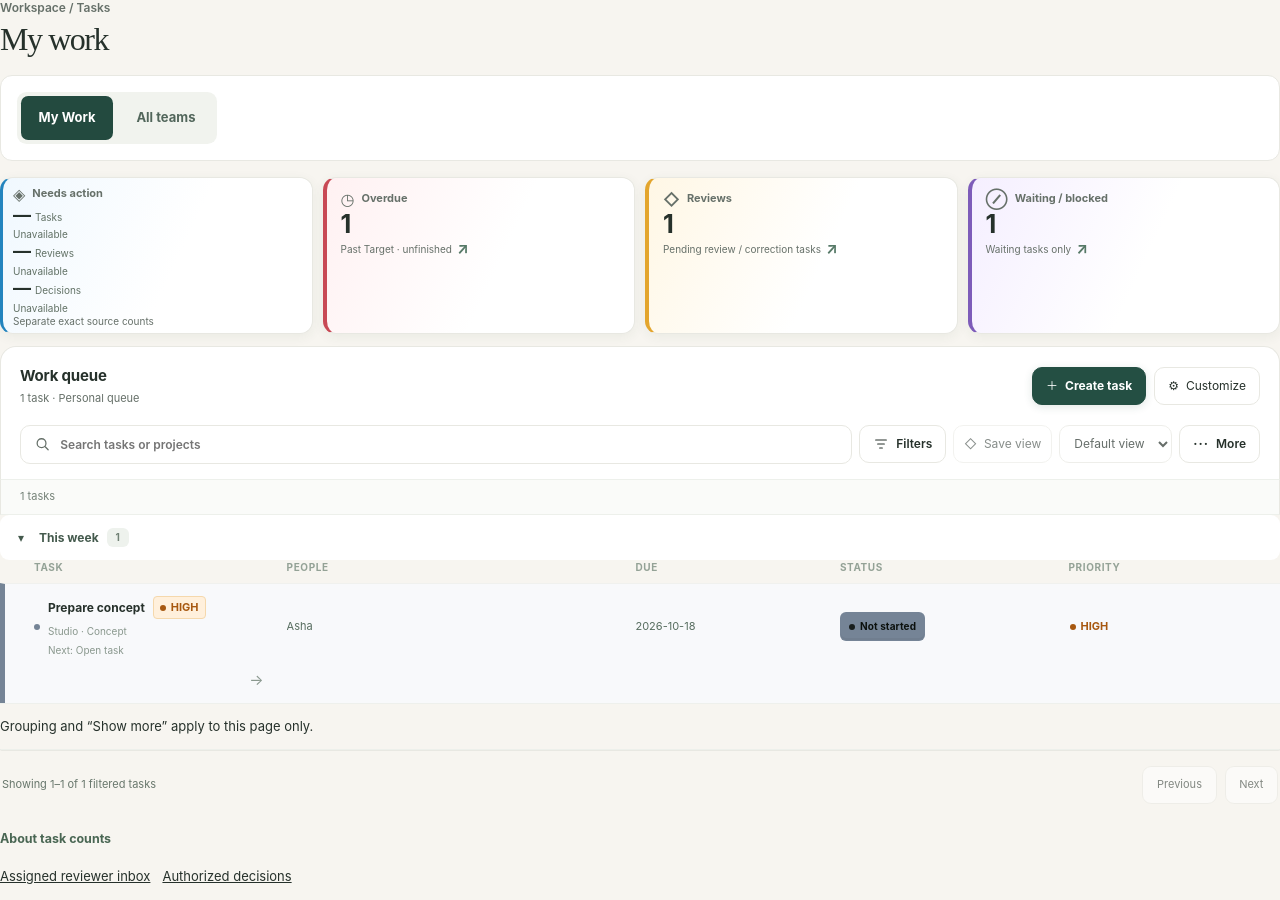
Test: TaskWorkspace My Work task drawer › keeps a real reassignment capacity warning and its decisions inside the open task drawer
Click the button named "Open task: Prepare concept".
click(642, 644)  # box x1=5 y1=584 x2=1279 y2=703
(page scrolled)
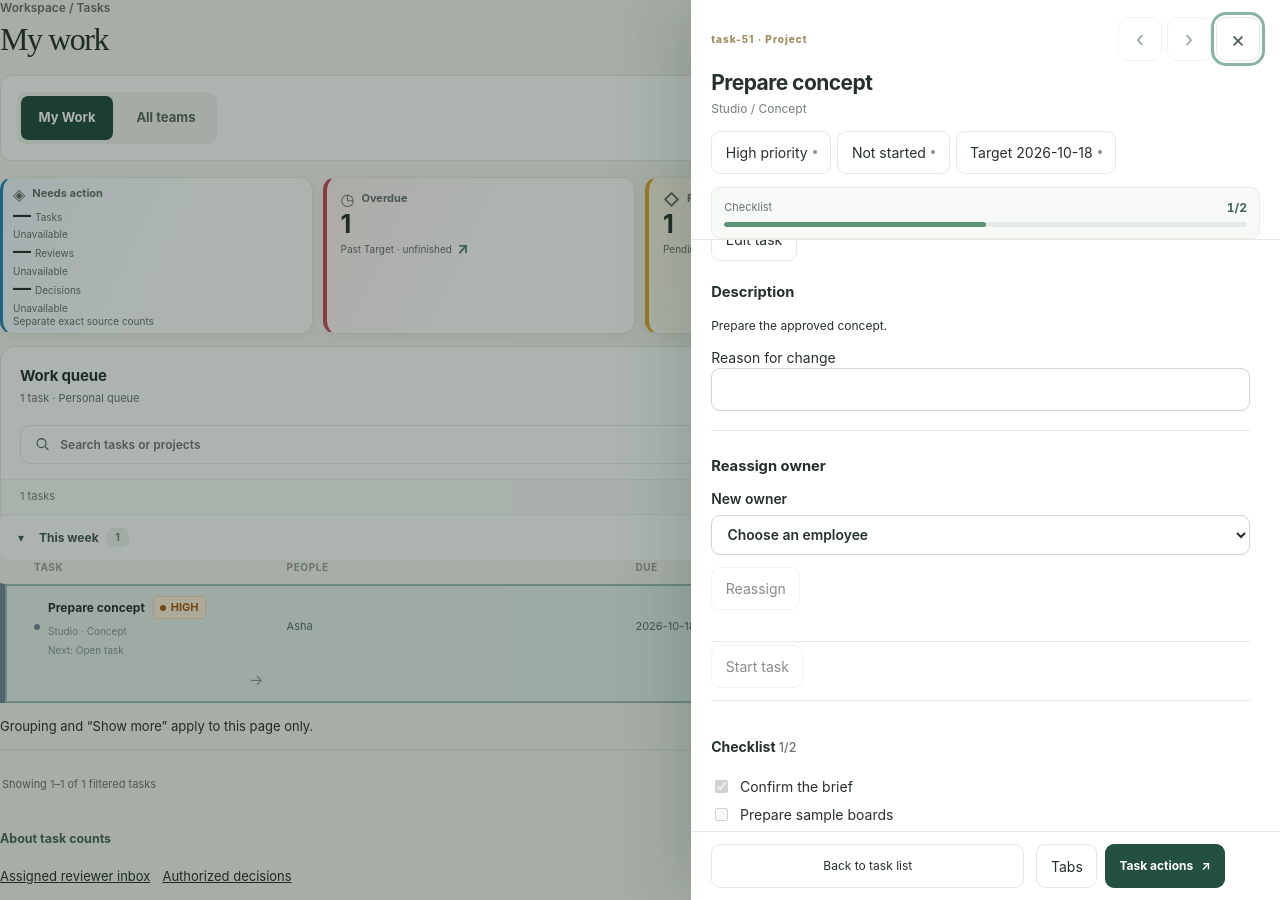
expect the heading "Prepare concept" is shown: met, box x1=711 y1=70 x2=872 y2=95
Select "Dev" in the dropdown labelled "New owner" at (981, 535), box x1=711 y1=515 x2=1250 y2=555
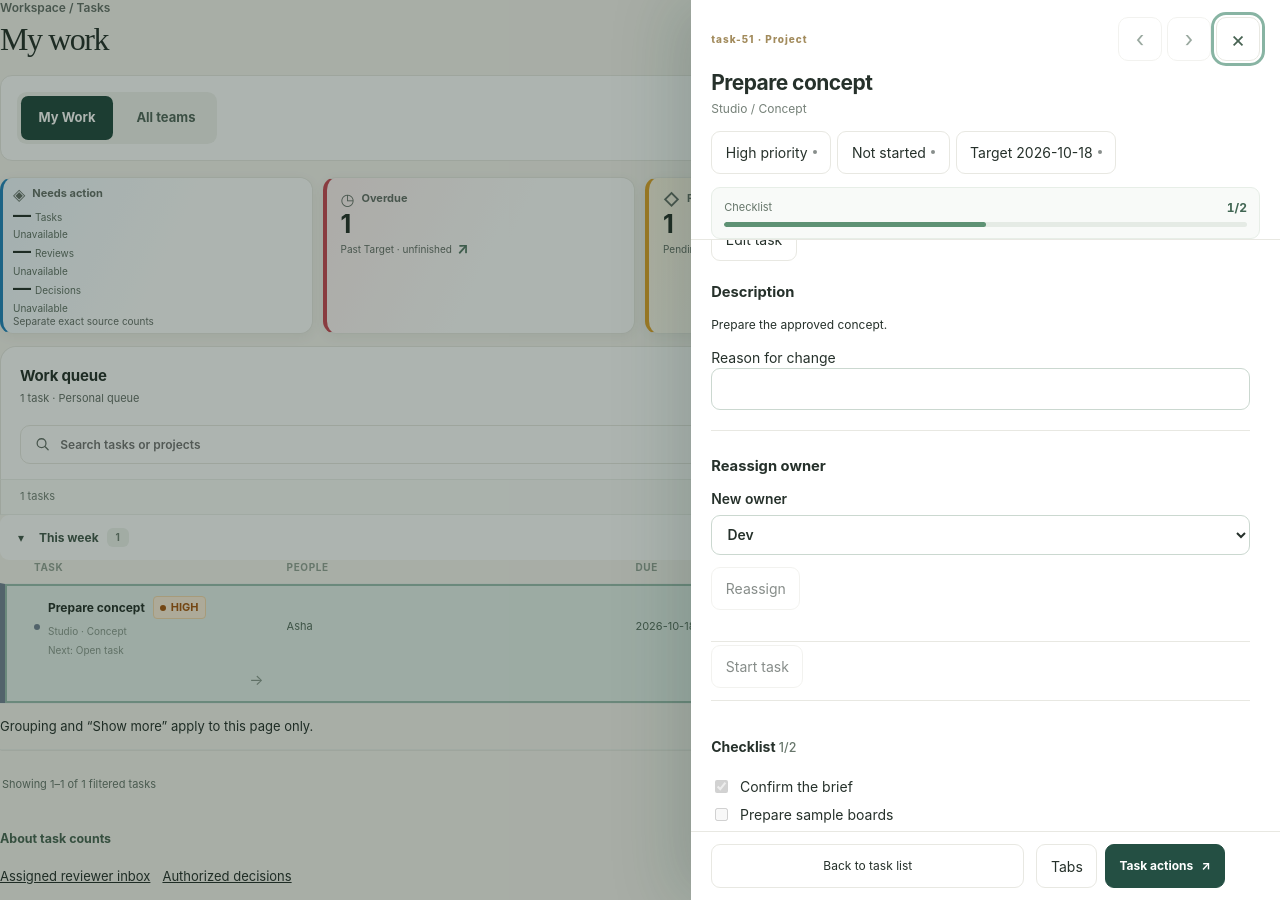
Type "Assign work to the available teammate" into the field labelled "Reason for change".
click(981, 389); type("Assign work to the available teammate")  # box x1=711 y1=368 x2=1250 y2=410
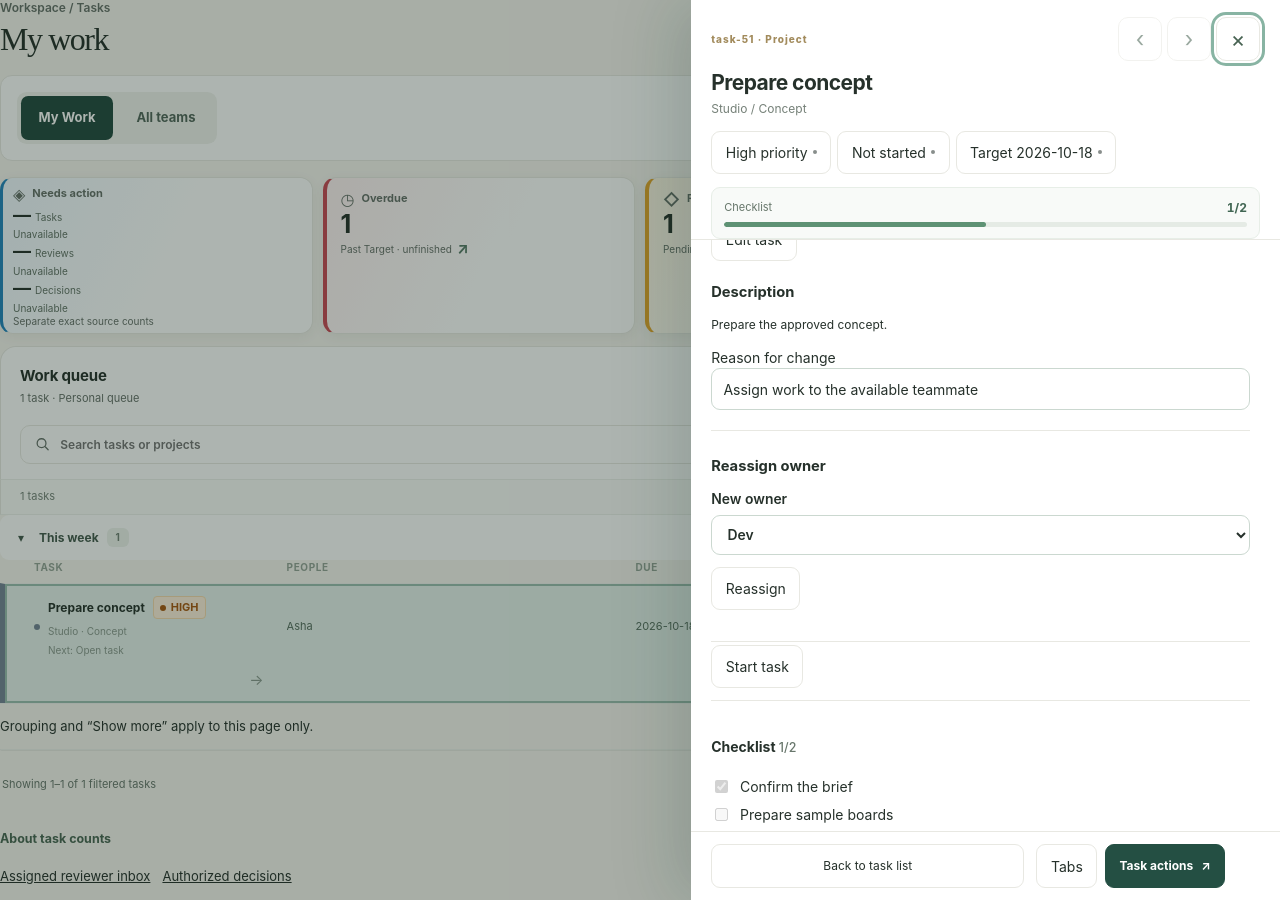
Click the button "Reassign".
click(756, 588)  # box x1=711 y1=567 x2=800 y2=610
(page scrolled)
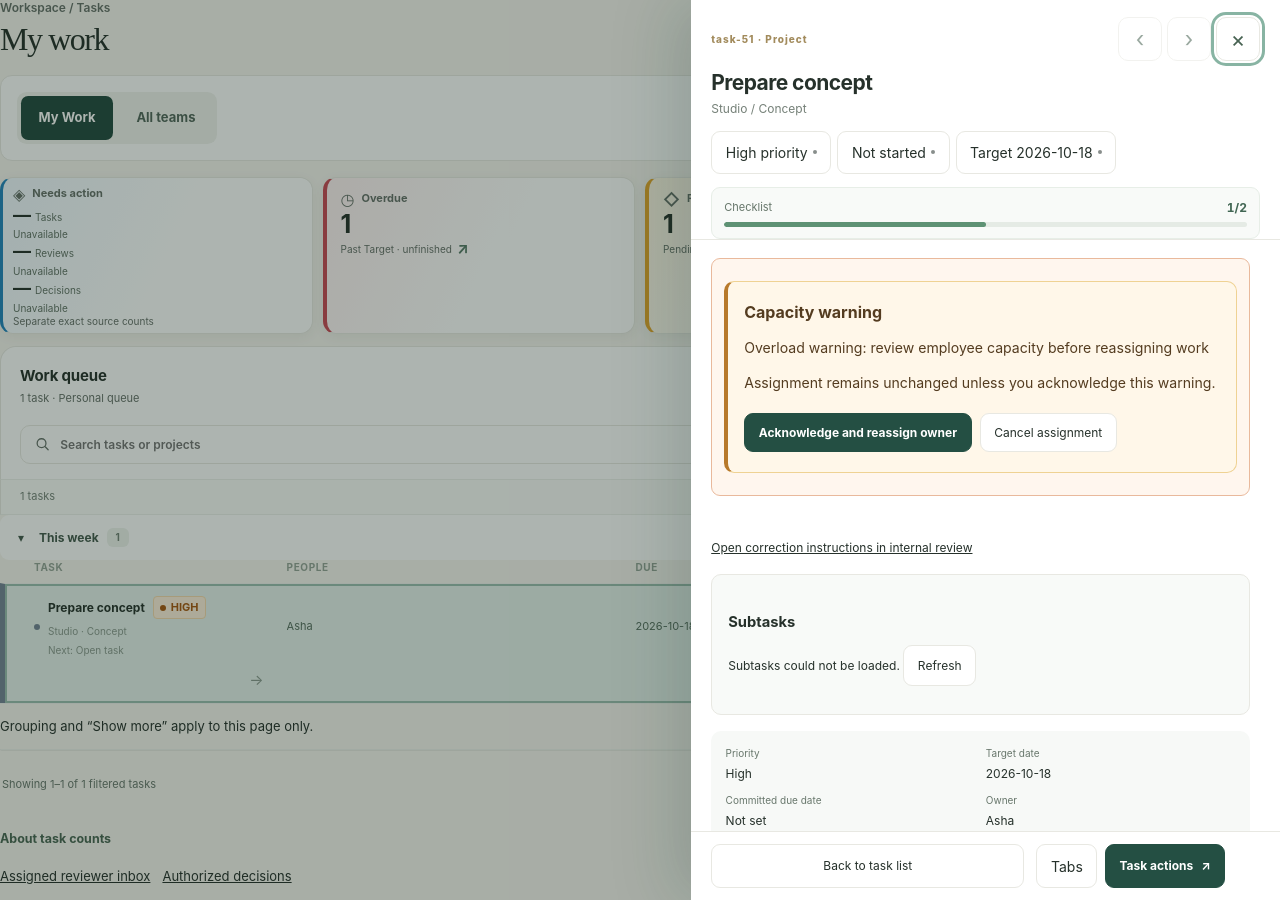
expect the text "Assignment remains unchanged unless you acknowledge this warning." is shown: met, box x1=744 y1=372 x2=1220 y2=393
expect the button "Acknowledge and reassign owner" is enabled: met, box x1=744 y1=413 x2=972 y2=452
expect the button "Cancel assignment" is enabled: met
Click the button "Cancel assignment".
click(1048, 432)  # box x1=980 y1=413 x2=1117 y2=452
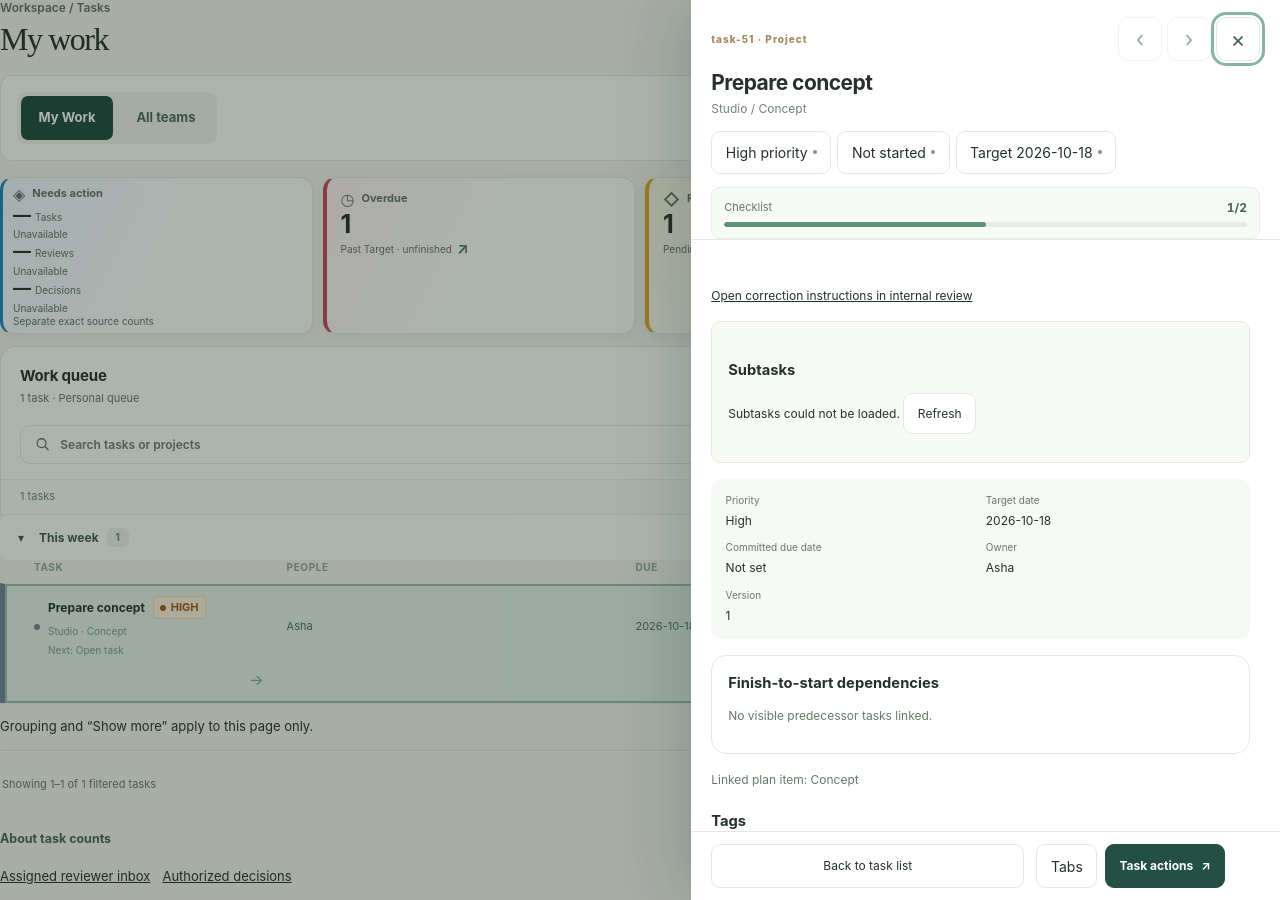
expect the dialog "Prepare concept" is shown: met, box x1=691 y1=0 x2=1279 y2=899
expect the text "Overload warning: review employee capacity before reassigning work" is gone: met
